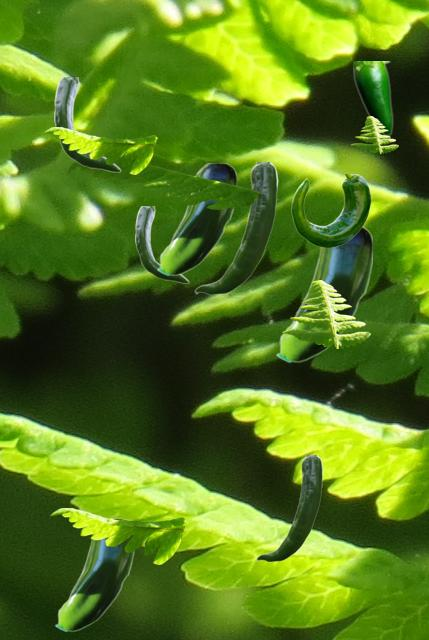green_chili: (275, 226, 371, 362), (194, 162, 277, 294), (54, 519, 133, 631), (156, 163, 235, 275), (256, 455, 322, 561), (54, 77, 120, 171), (291, 174, 370, 246), (135, 206, 188, 282), (353, 61, 392, 135)
